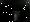person: (13, 9, 21, 21)
